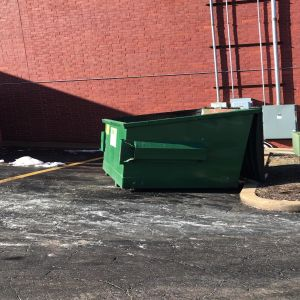Dumpster: (97, 106, 271, 196)
